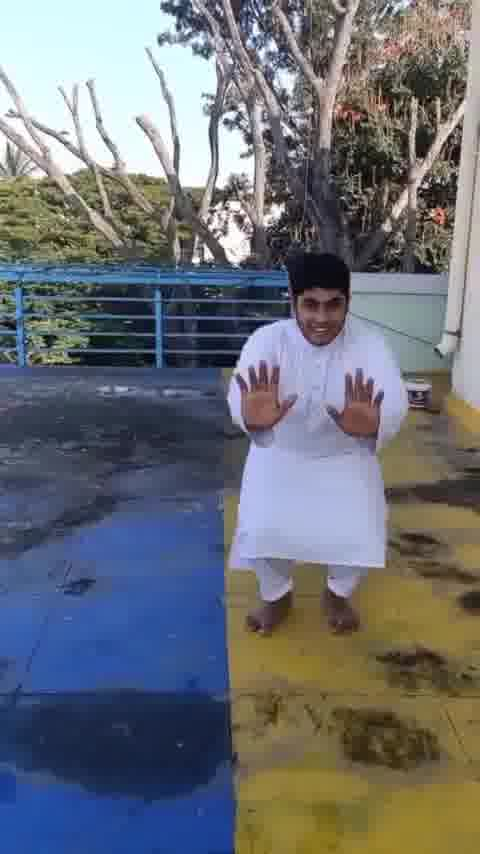duck: (225, 248, 418, 663)
